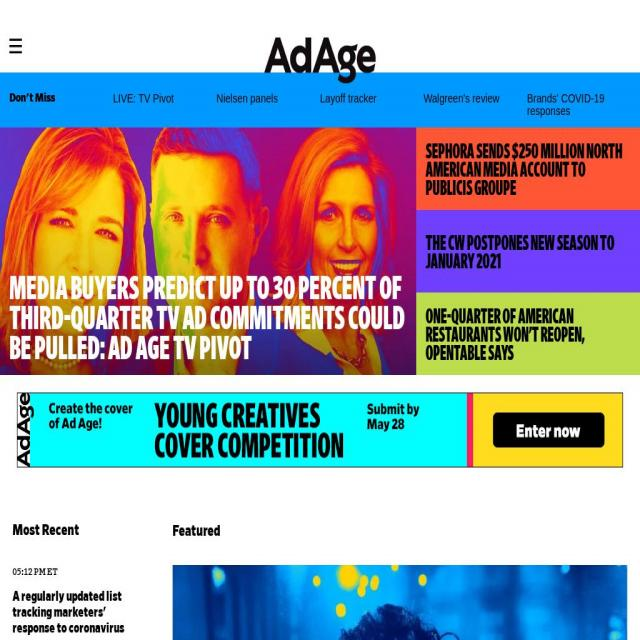navigation-links: (8, 77, 618, 130)
options: (5, 33, 30, 62)
